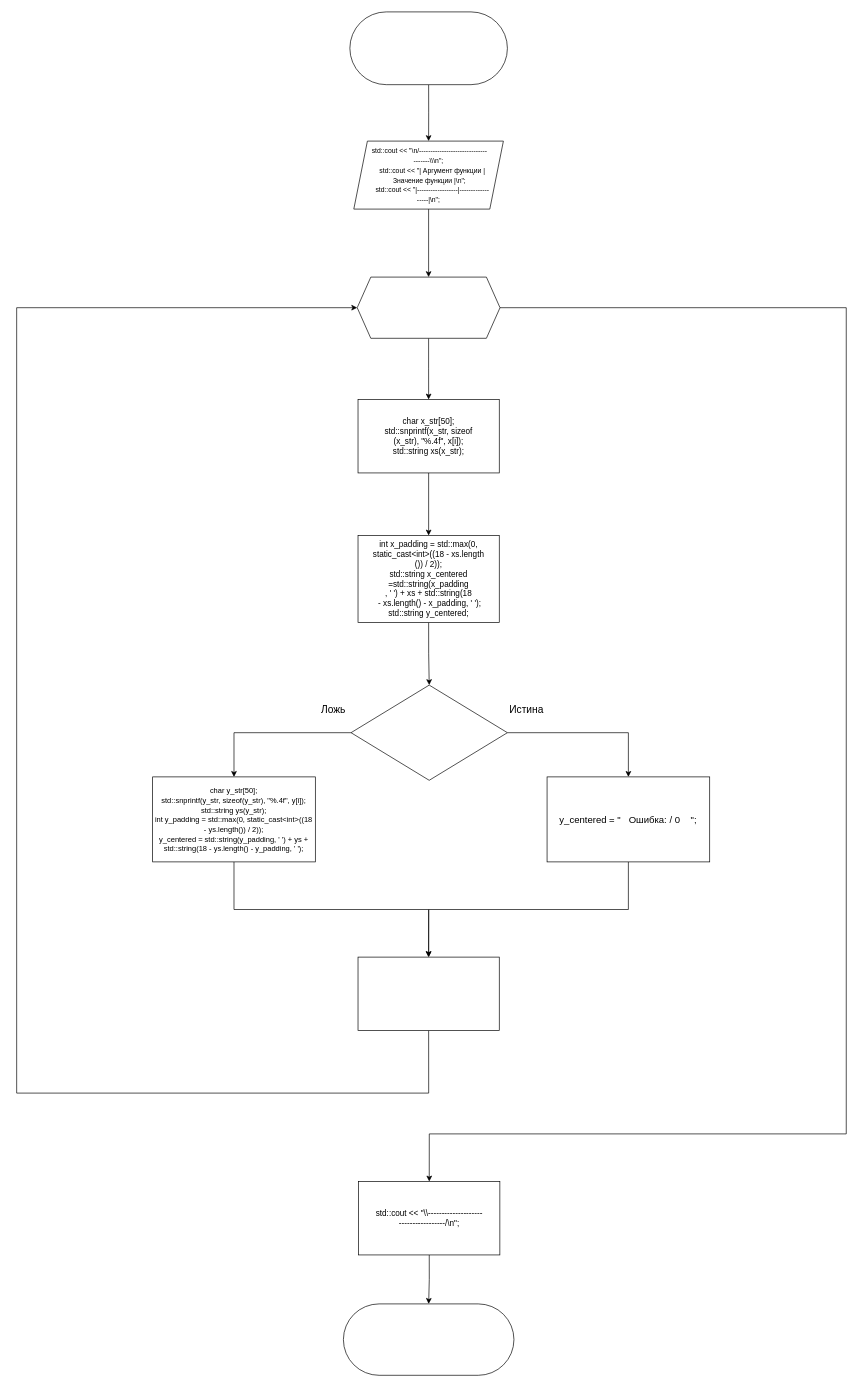
Image size: 864x1387. Some labels were removed from this diagram. Here are the shapes that lost their labels. From the top down, the centre of each, then its label:
(428,48): void Printtable(const std::vector <double>& x const std::vector<double>& y)
(428,732): if (std::isnan(y[i]))
(428,993): std::cout << "|" << x_centered << "|" << y_centered << "|\n";
(428,1339): return 0
